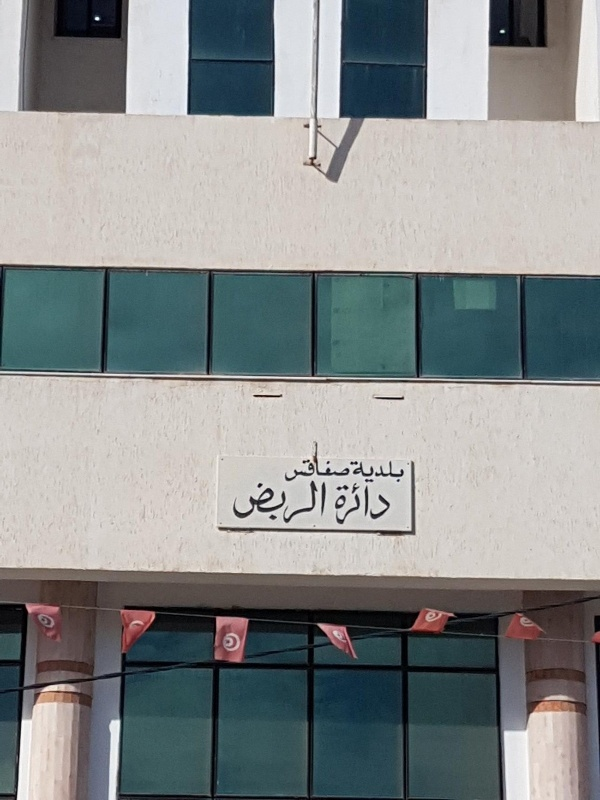text: (241, 479, 256, 526), (257, 479, 272, 526), (273, 479, 288, 526), (289, 479, 304, 526), (305, 479, 320, 526), (337, 482, 352, 526), (353, 482, 368, 526), (369, 482, 384, 526), (231, 479, 240, 526), (353, 458, 368, 485), (369, 458, 384, 485), (385, 458, 400, 485), (289, 456, 304, 483), (305, 456, 320, 483), (321, 456, 336, 483), (337, 456, 350, 483), (321, 479, 328, 526), (385, 482, 392, 526), (401, 458, 404, 485), (350, 458, 352, 485), (335, 482, 336, 526)
